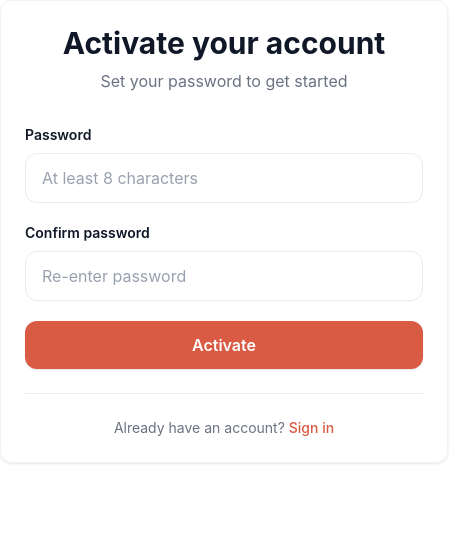
Bundle 3 — Auth Screens › ActivatePage › shows error for password mismatch
Type "password123" into the password field labelled "Password".
click(224, 178); type("password123")  # box [25,153,423,203]
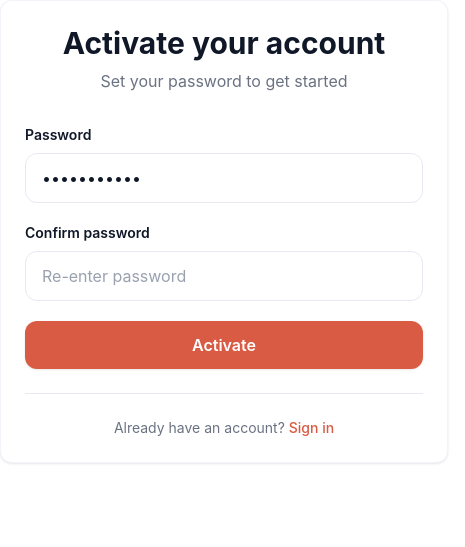
Type "different" into the password field labelled "Confirm password".
click(224, 276); type("different")  # box [25,251,423,301]
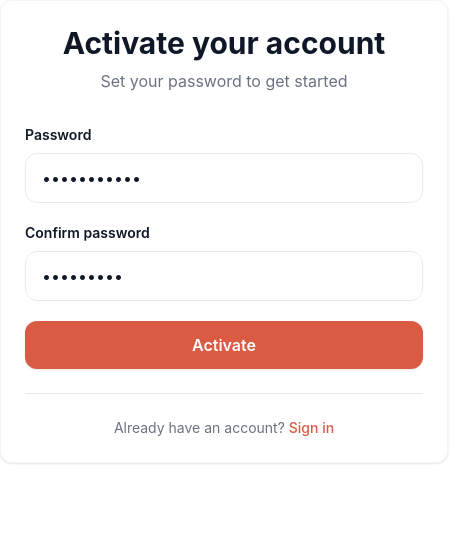
Click the button "Activate".
click(224, 345)  # box [25,321,423,369]
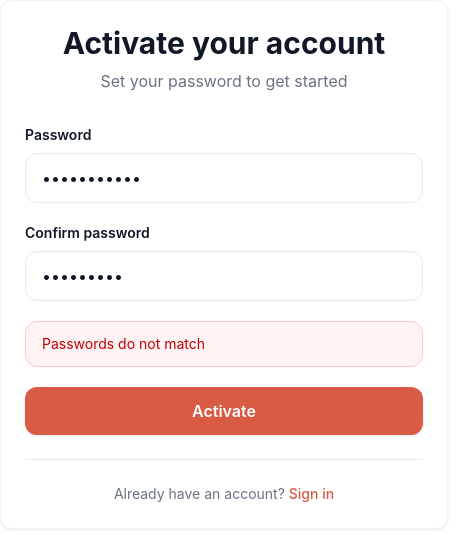
Now the text "Passwords do not match" is shown, box [25,321,423,367]
